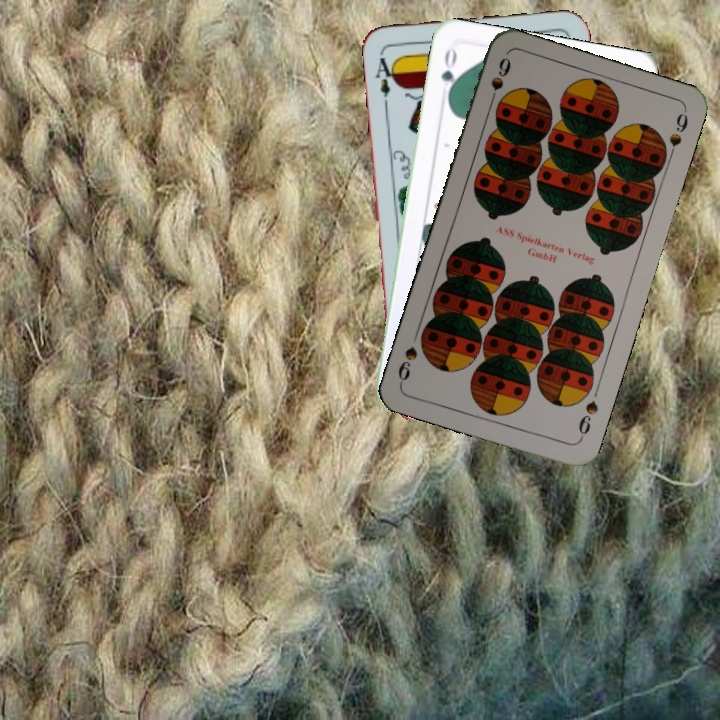EA: (371, 49, 399, 108)
GO: (436, 44, 460, 103)
S9: (485, 53, 514, 110), (574, 396, 601, 443)
